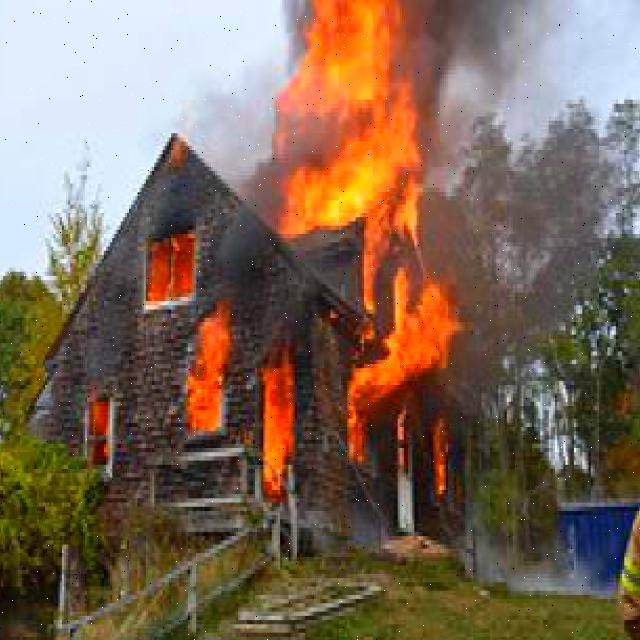fire: (270, 1, 414, 249), (347, 286, 448, 427), (186, 303, 234, 450), (253, 362, 299, 500), (433, 429, 452, 501)
smoke: (446, 282, 597, 404), (460, 532, 616, 603), (211, 156, 276, 304)
